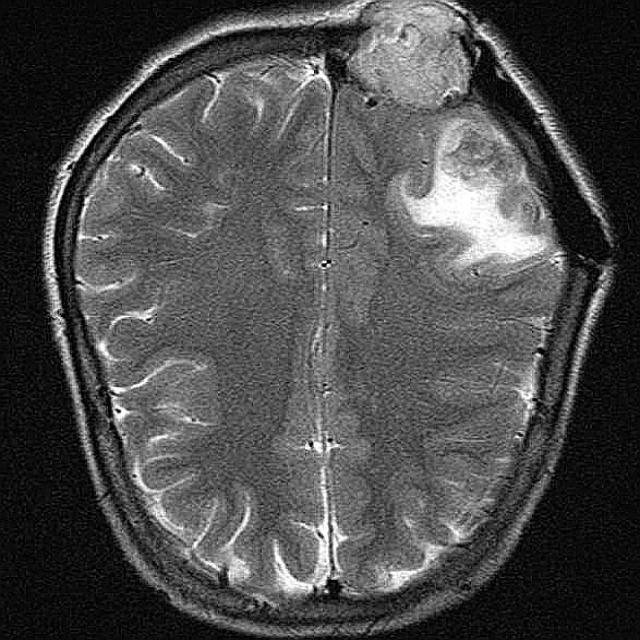Tumor-Cell: (422, 108, 568, 276), (339, 0, 501, 121)
